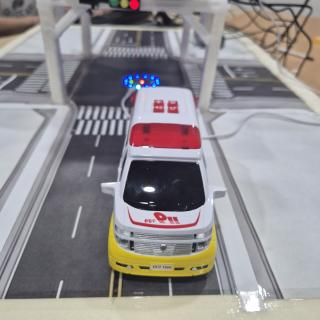Ambulance: (101, 86, 226, 277)
